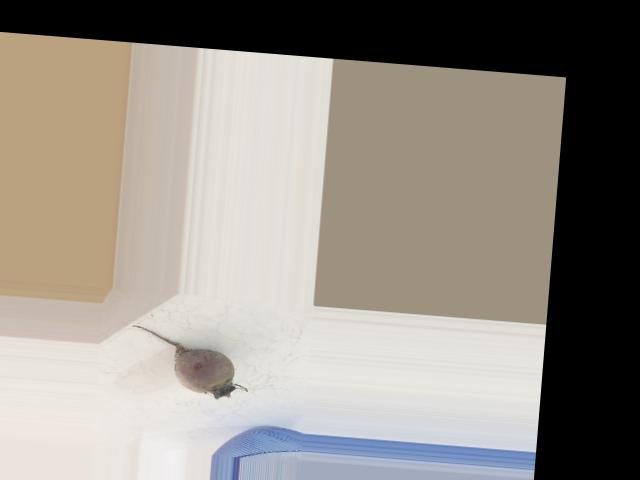beet: (127, 324, 251, 400)
